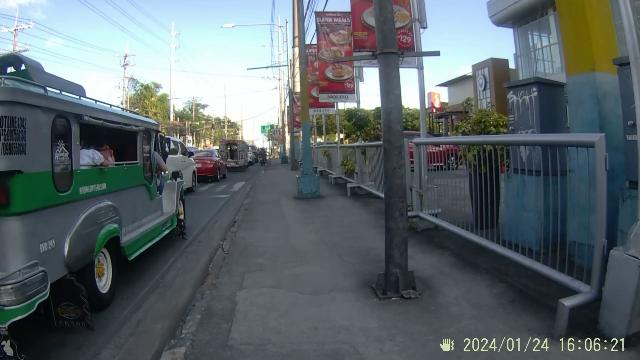lamp_post: (219, 18, 295, 132)
utility_post: (371, 0, 423, 308)
